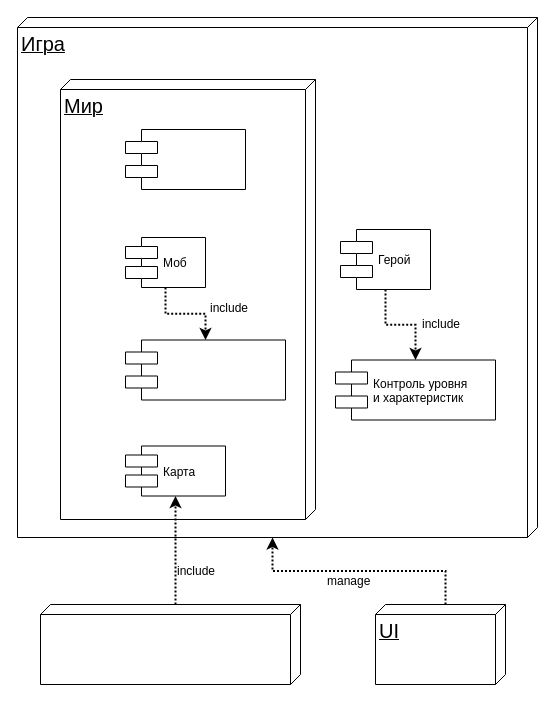
This 555x702 diagram has some shape labels left out. Here are the shapes that lost their labels. From the top down, the box of each, then its label:
(124, 128, 246, 190): Инвентарь
(124, 339, 286, 400): Контроль поведения моба
(40, 604, 300, 684): Хранилище карт
